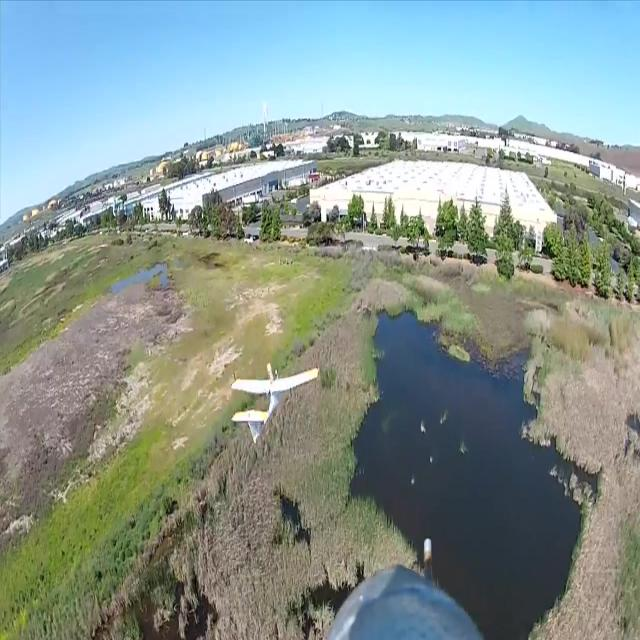iha: (262, 393, 287, 414)
